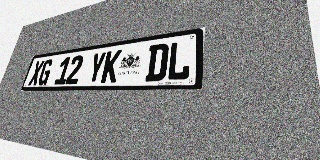1: (54, 56, 73, 85)
2: (65, 55, 84, 84)
D: (145, 43, 169, 82)
G: (37, 59, 54, 85)
K: (100, 49, 122, 83)
L: (166, 40, 192, 81)
X: (28, 60, 45, 86)
Y: (86, 51, 107, 84)
